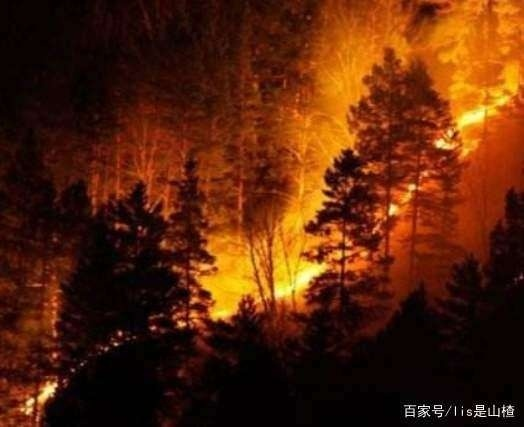fire: (186, 219, 322, 322)
